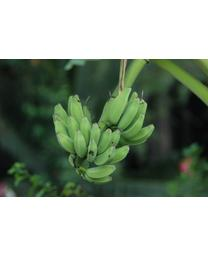banana: (52, 84, 155, 184)
